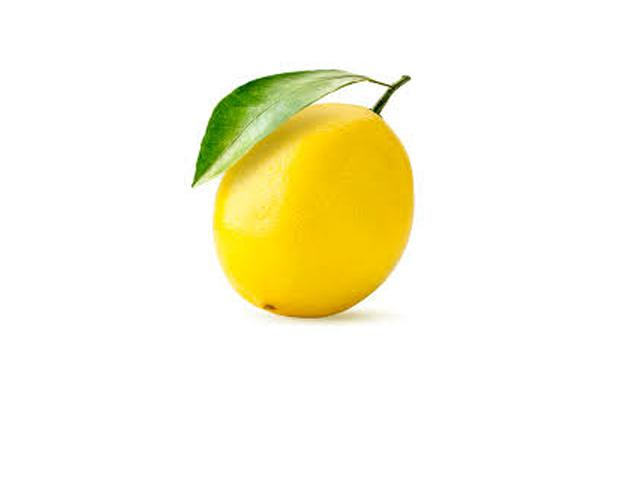lemon: (199, 74, 422, 323)
